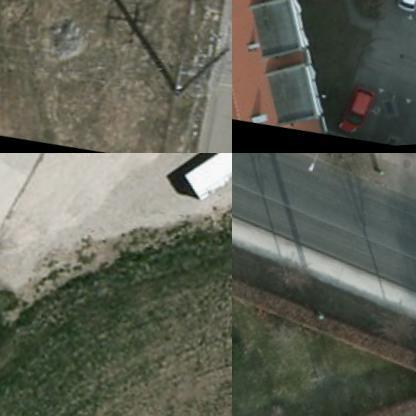camping car: (173, 153, 231, 212)
car: (330, 82, 372, 141), (390, 0, 415, 21)
